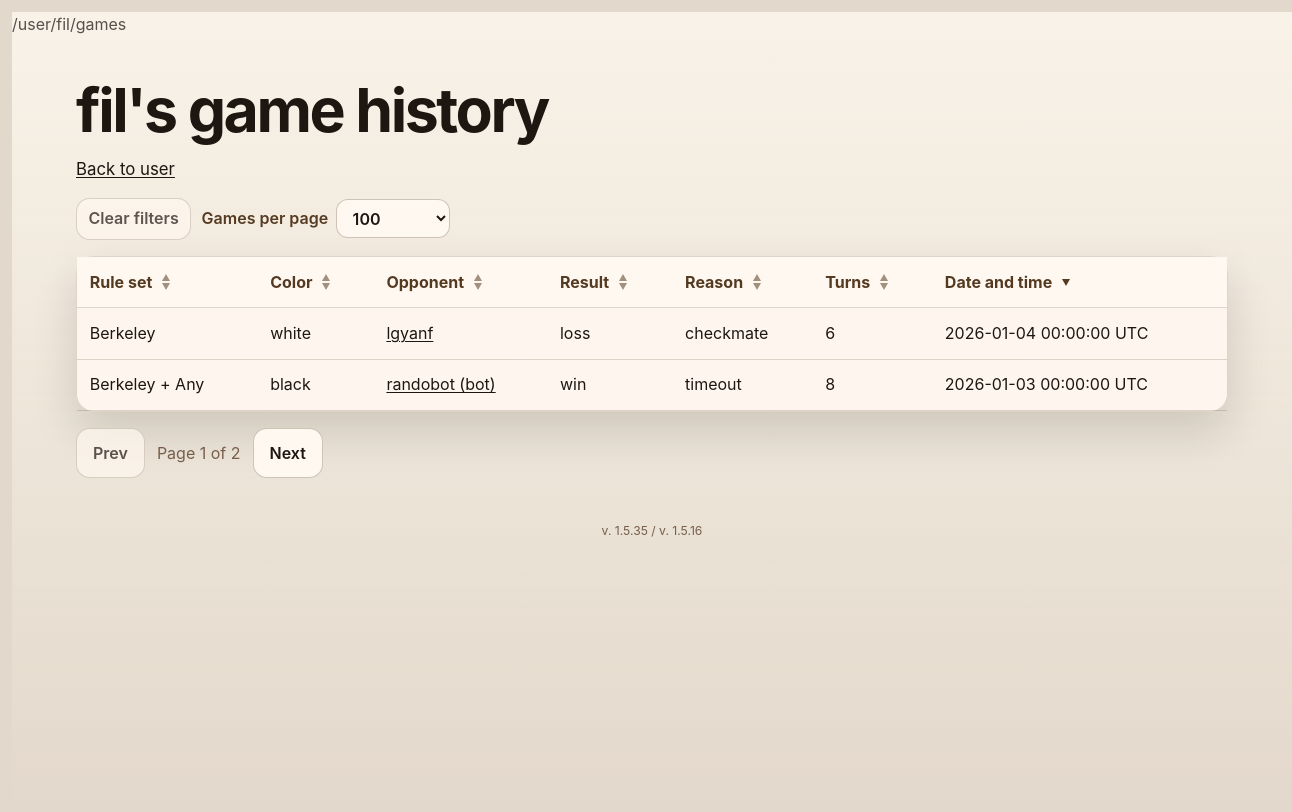
Test: GameHistoryPage › shows_filtered_pagination_for_single_match_filters
Expected: the text "Page 1 of 2" is shown, [157,440,240,465]
Click the button "Opponent". click: (425, 282)
box: [386,270,464,294]
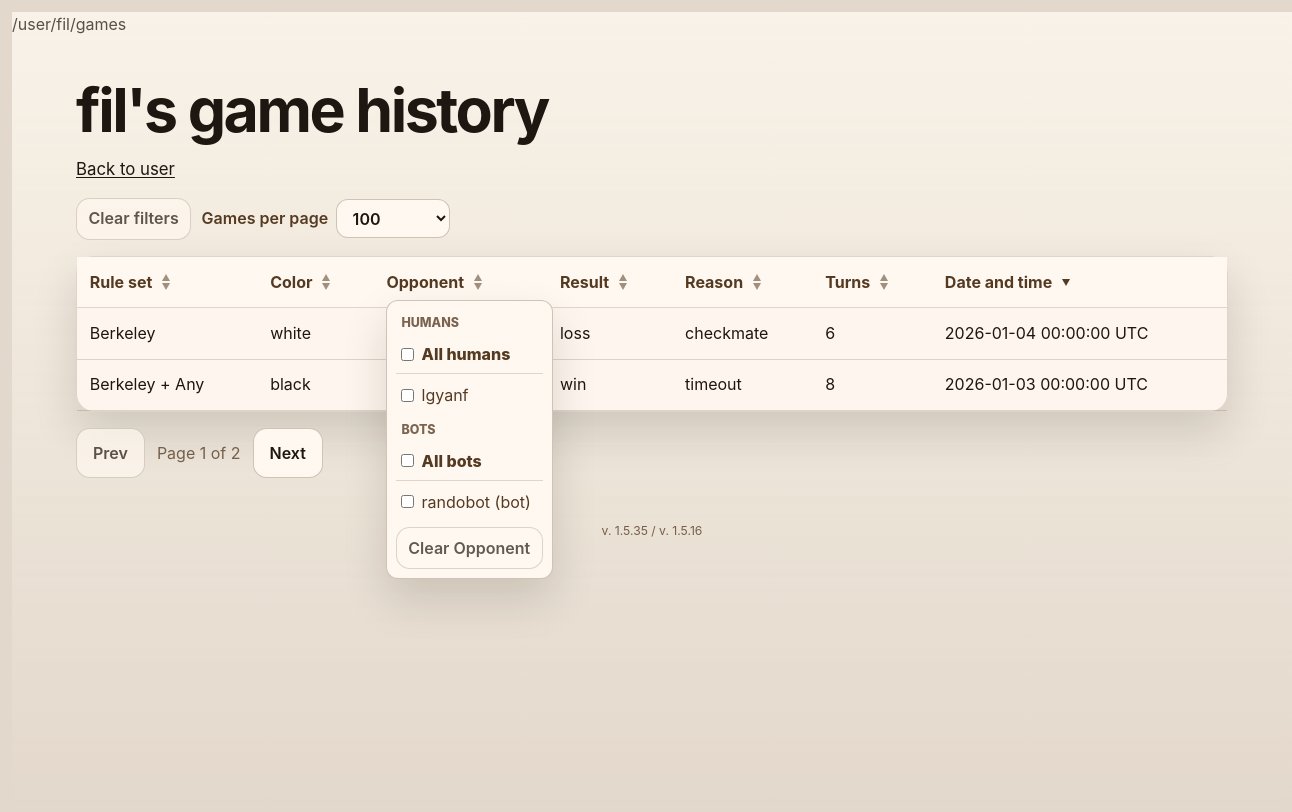
Expected: the text "lgyanf" is shown, [401,385,469,405]
Expected: the checkbox labelled "lgyanf" is shown
Click the checkbox labelled "lgyanf". click: (408, 395)
box: [401,389,414,402]
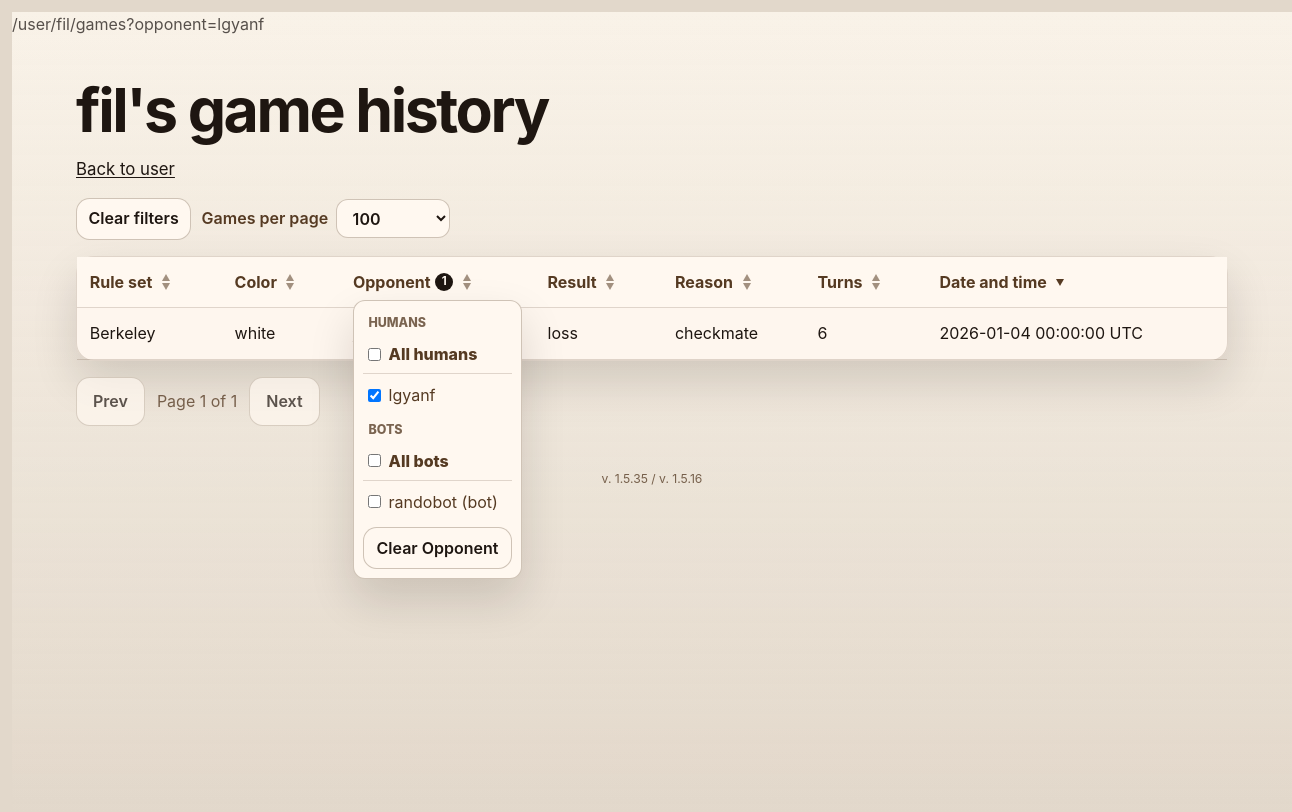
Expected: the link "lgyanf" is shown, [353,323,400,343]
Expected: the text "Page 1 of 1" is shown, [157,389,237,414]
Expected: the button "Next" is disabled, [249,377,320,426]
